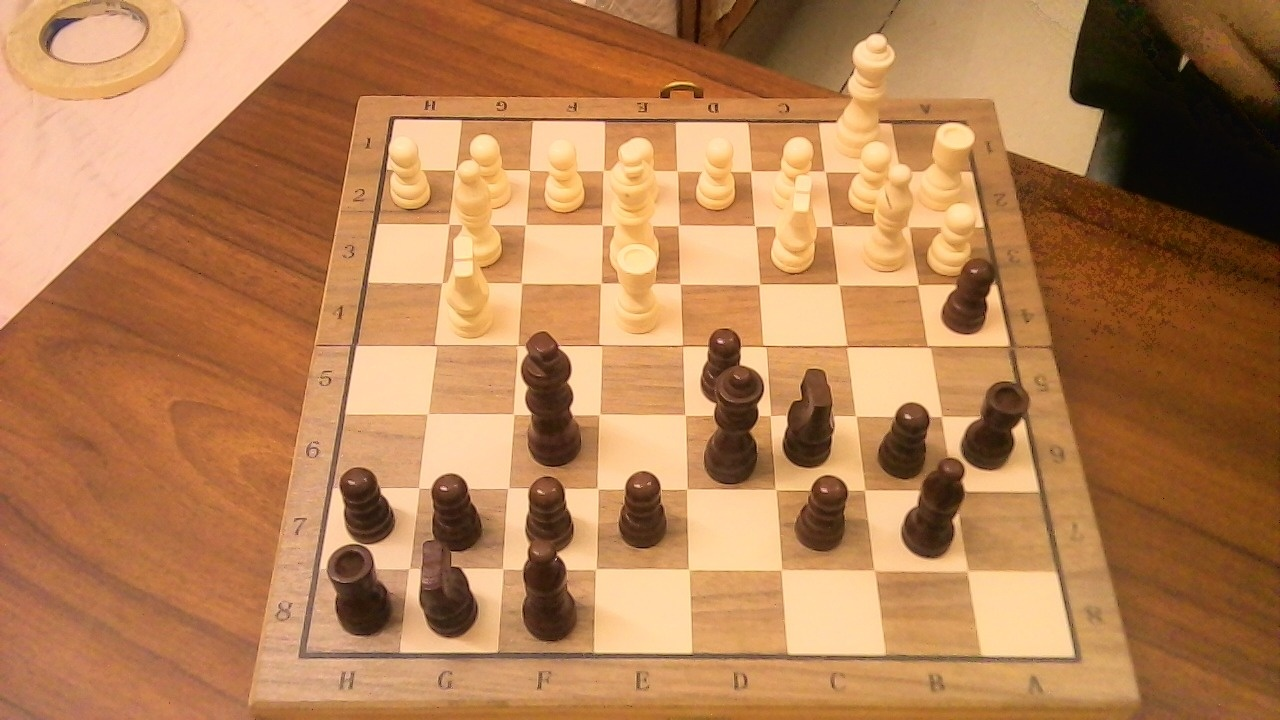B: (854, 154, 923, 278), (448, 148, 511, 273)
K: (604, 127, 671, 276)
N: (763, 163, 830, 277), (440, 256, 501, 342)
P: (841, 135, 909, 218), (922, 193, 985, 278), (459, 126, 518, 213), (763, 128, 822, 215), (535, 129, 592, 217), (688, 128, 744, 215), (382, 129, 437, 212), (613, 131, 664, 205)
Q: (830, 21, 900, 164)
R: (917, 111, 983, 216), (605, 232, 669, 340)
b: (894, 445, 979, 564), (508, 539, 588, 644)
k: (517, 321, 594, 469)
n: (410, 526, 492, 641), (778, 353, 850, 471)
p: (788, 463, 860, 555), (331, 456, 405, 544), (937, 247, 1007, 339), (421, 462, 493, 551), (880, 400, 942, 480), (618, 470, 668, 550), (522, 477, 576, 550), (700, 330, 745, 405)
q: (697, 354, 775, 487)
r: (321, 533, 401, 639), (968, 369, 1037, 471)
